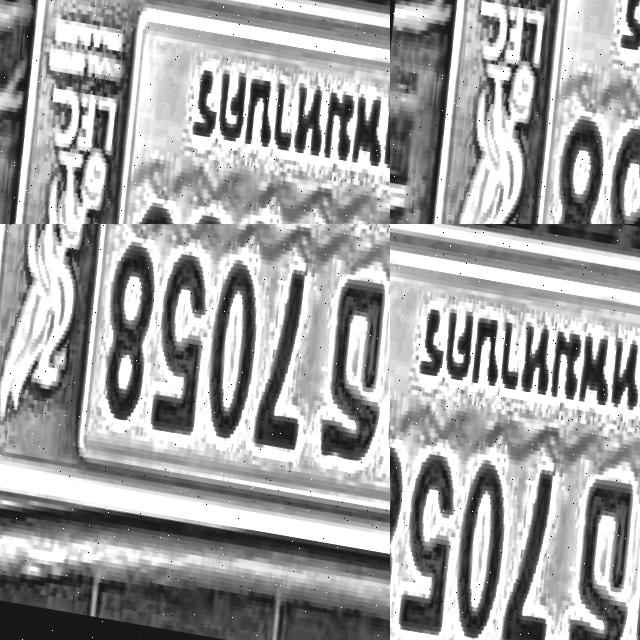license-plate: (118, 224, 390, 640), (390, 224, 640, 640), (537, 12, 640, 224)
